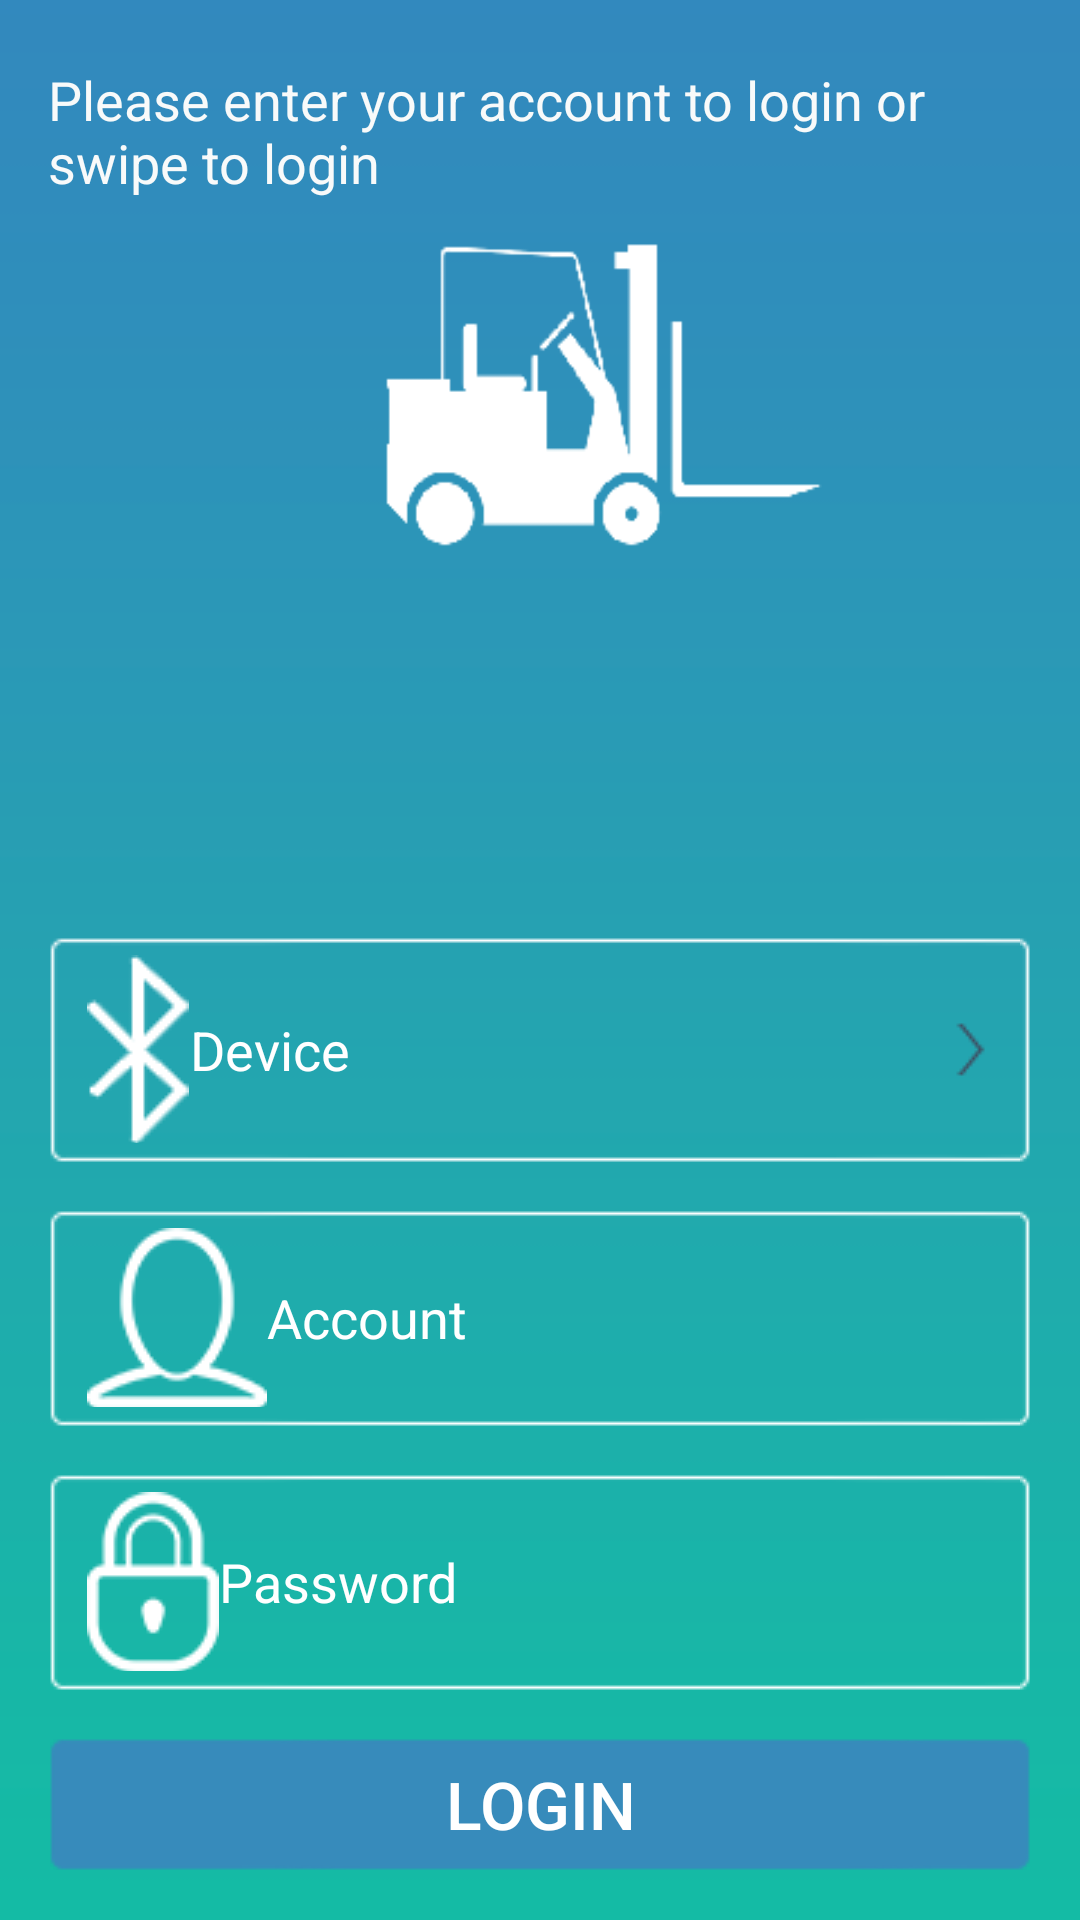

Named icons in this screenshot (1080x1920) and their bounding boxes, (x1, y1, x2, y2):
arrow: (957, 1023, 984, 1076)
